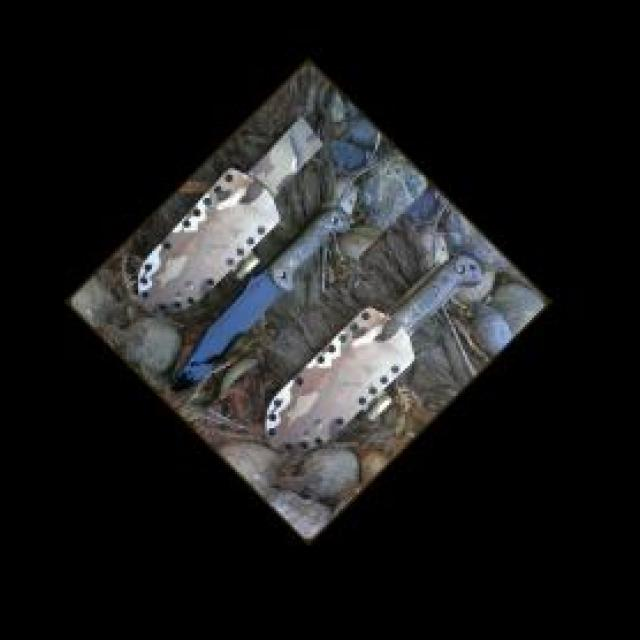knife: (170, 202, 348, 386)
